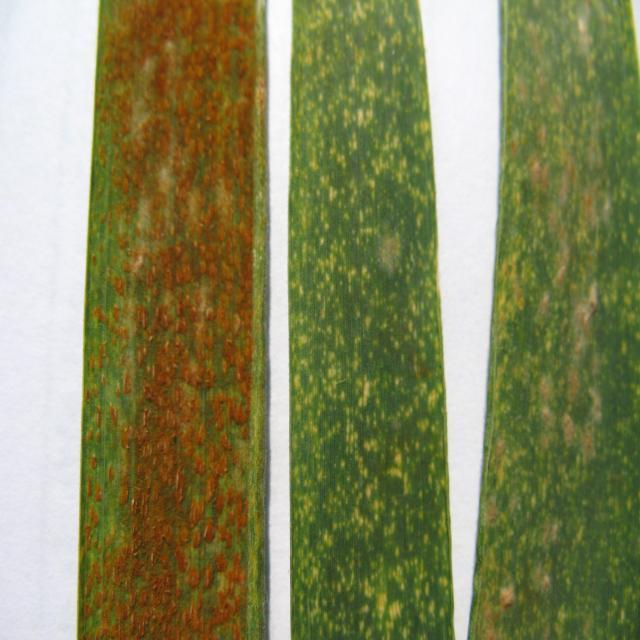Yellow Rust: (92, 0, 259, 640), (290, 2, 450, 640), (497, 0, 640, 640)
